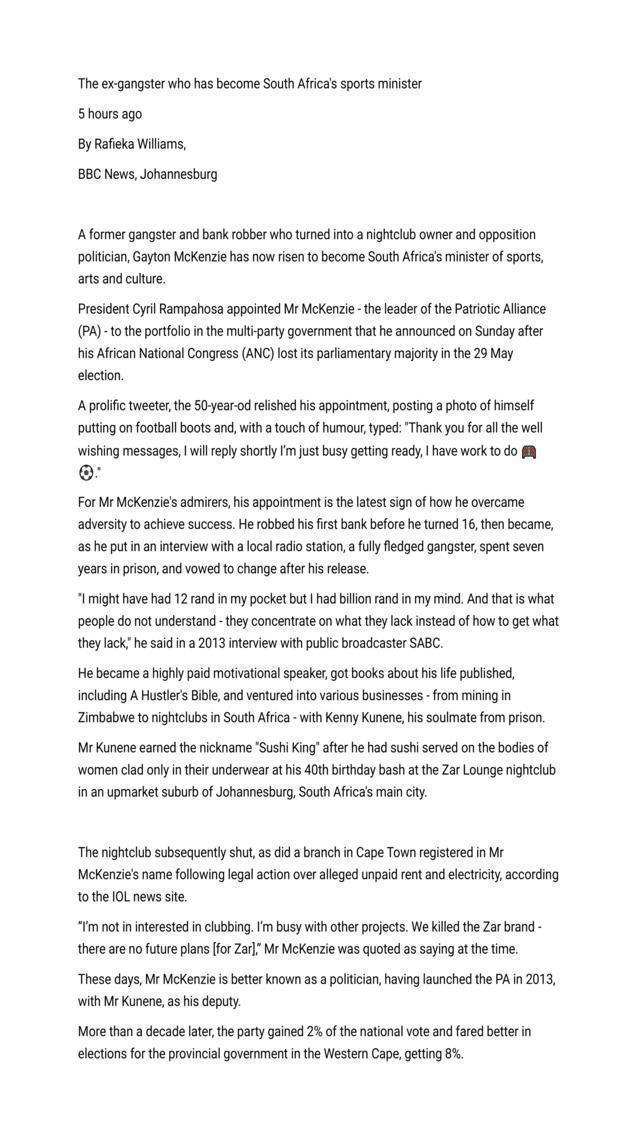Text: (75, 865, 561, 887), (73, 968, 559, 990), (76, 759, 558, 780), (74, 916, 547, 937), (75, 1021, 534, 1042), (74, 418, 548, 438), (74, 536, 547, 556), (74, 246, 546, 266), (74, 396, 541, 416), (71, 612, 562, 631), (73, 590, 558, 609), (73, 494, 531, 514), (75, 738, 552, 757), (74, 322, 545, 341), (74, 442, 542, 461), (73, 225, 540, 244), (73, 344, 515, 364), (74, 516, 558, 534), (73, 940, 522, 959), (74, 708, 544, 726), (74, 686, 514, 705), (74, 300, 550, 317), (74, 1044, 467, 1064), (74, 843, 507, 861), (73, 74, 426, 96), (72, 634, 446, 654), (75, 782, 437, 802), (74, 666, 520, 682), (74, 558, 372, 578), (72, 993, 242, 1013), (74, 164, 220, 184), (74, 134, 188, 153), (73, 889, 191, 906), (75, 270, 167, 290), (74, 106, 146, 124), (74, 368, 125, 386)
